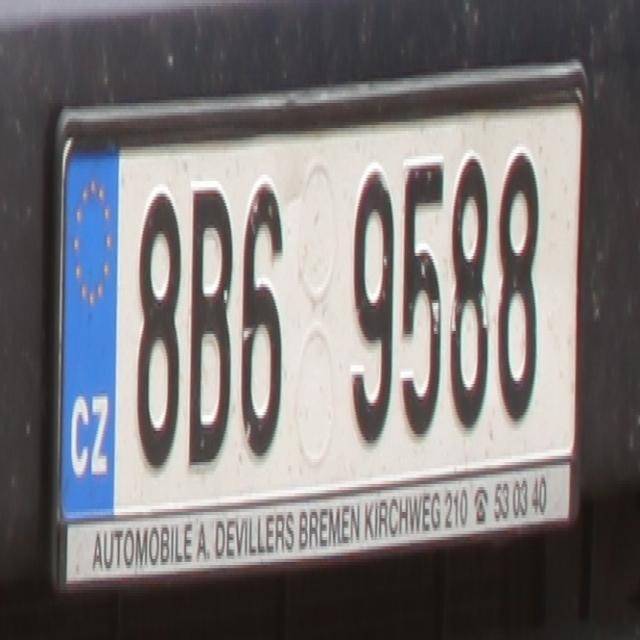5: (399, 150, 442, 440)
6: (238, 168, 283, 466)
8: (136, 188, 182, 472), (450, 144, 490, 440), (496, 153, 538, 431)
9: (348, 165, 392, 444)
B: (184, 172, 234, 474)
